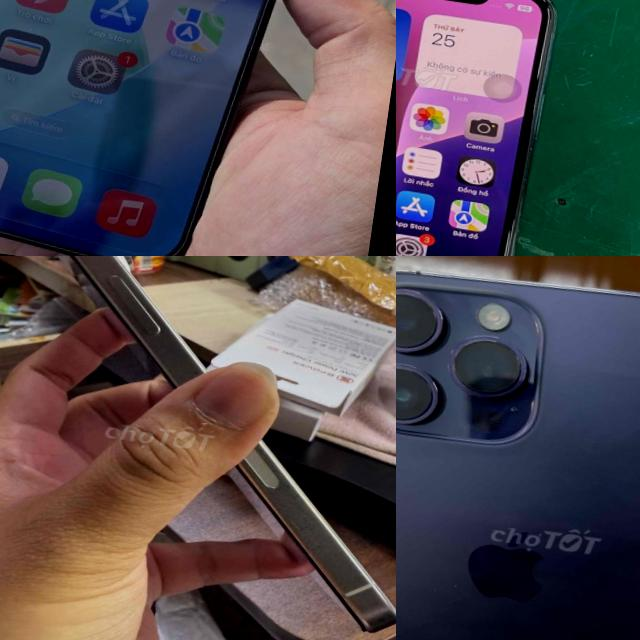gen_11: (396, 0, 569, 256)
gen_14: (396, 256, 640, 640)
gen_15: (0, 256, 396, 640)
gen_16: (0, 0, 275, 256)
